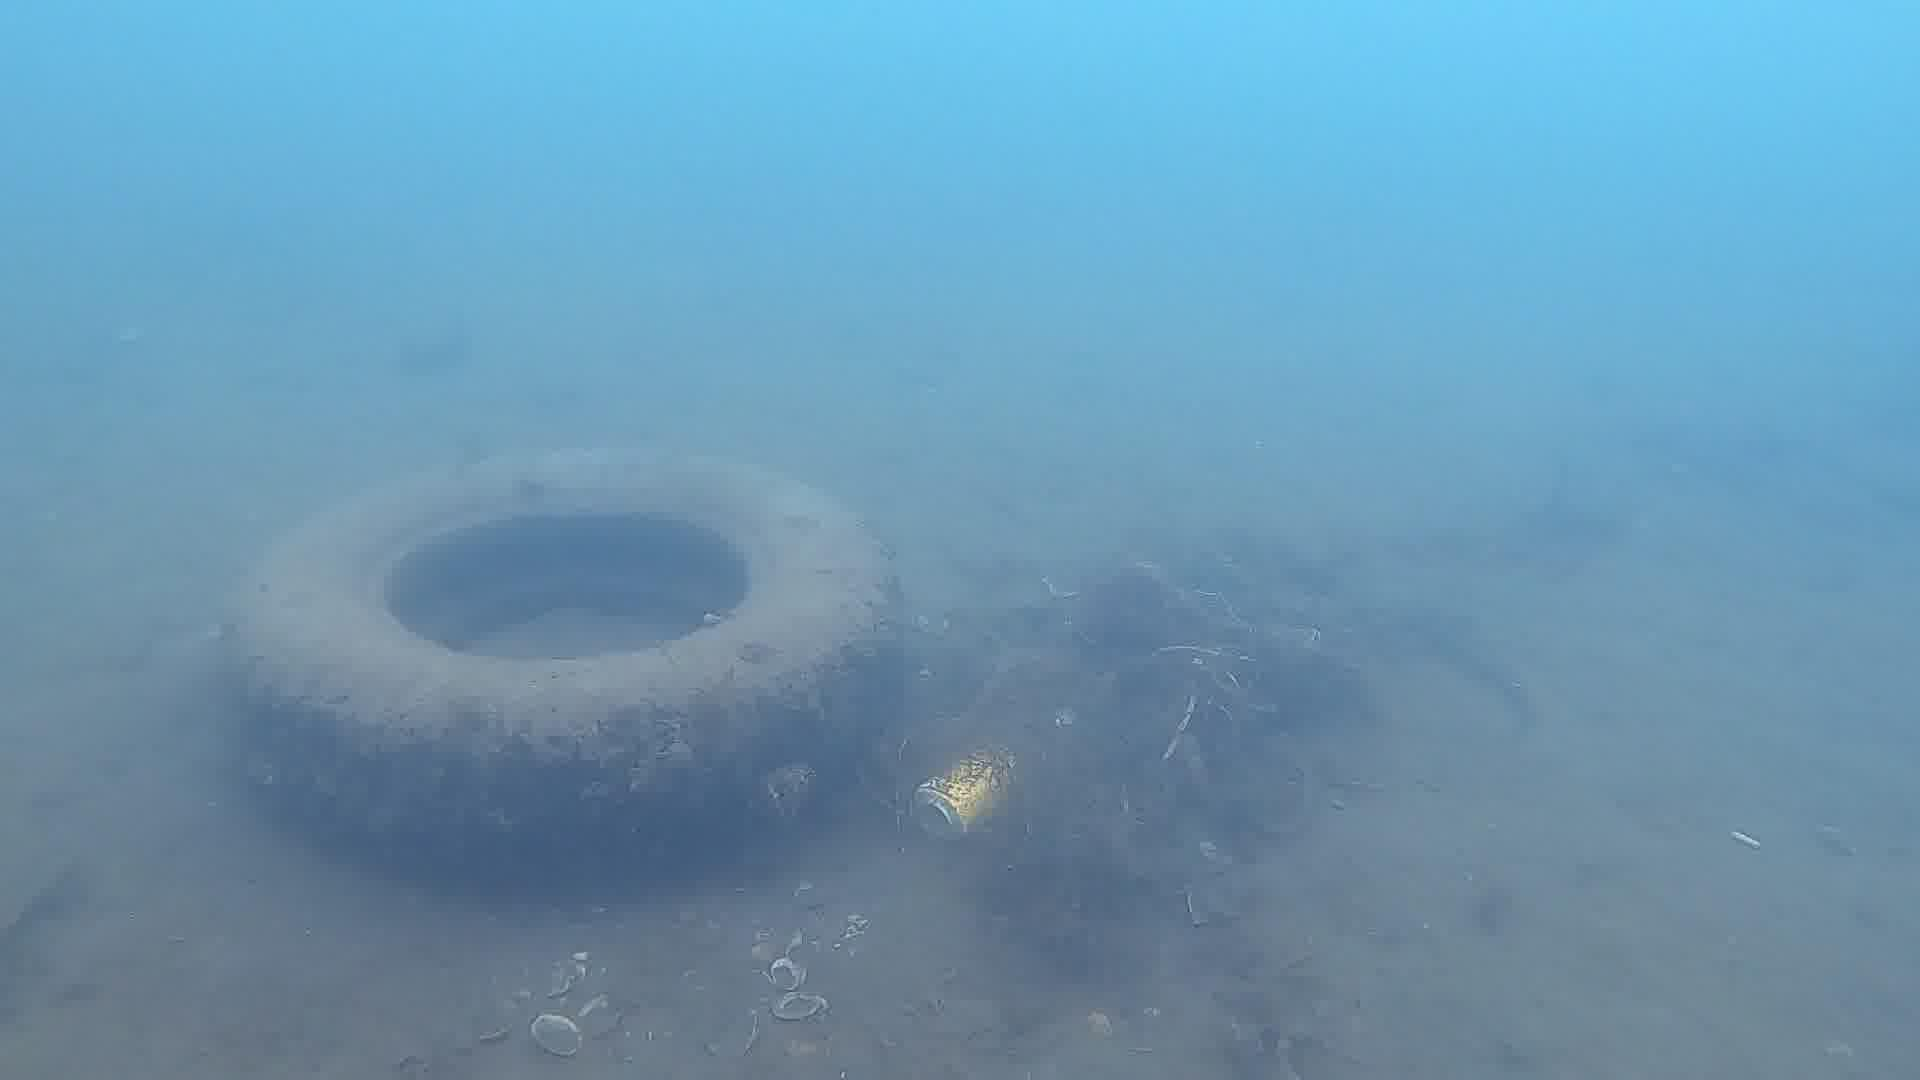tire: (211, 433, 903, 898)
